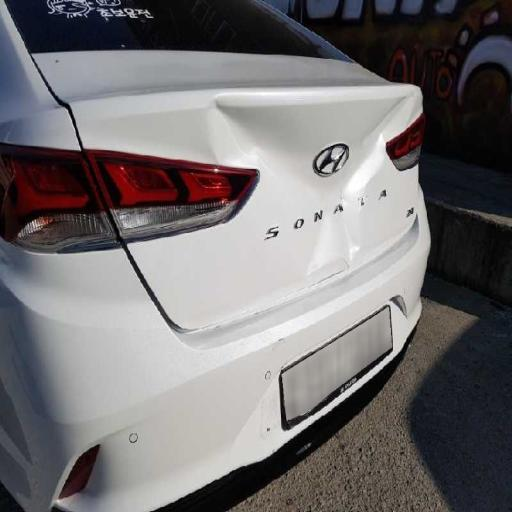broken: (113, 83, 440, 377)
